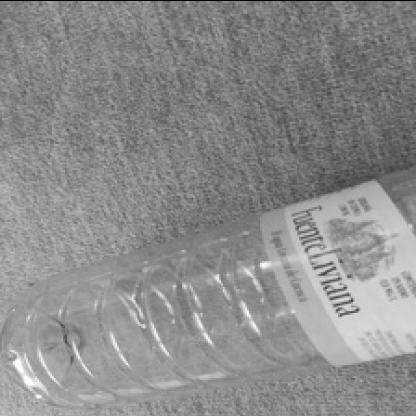plastic_bottles: (3, 171, 416, 409)
